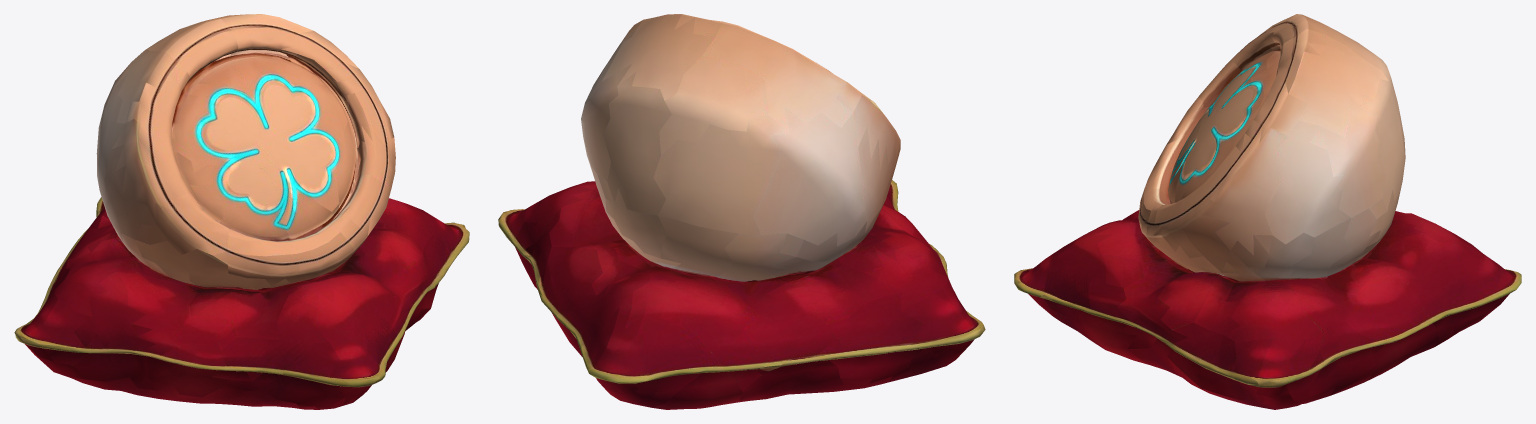
File: old_penny.glb
3 views of the same model, side by side, from view 1: azimuth 30°, elevation 25°; view 2: azimuth 150°, elevation 25°; view 3: azimuth 270°, elevation 25° (orthographic). The views are drawn at different scales.
Size of the model in its own units: 1 by 0.6992 by 1.
1 material, 1 textured.
